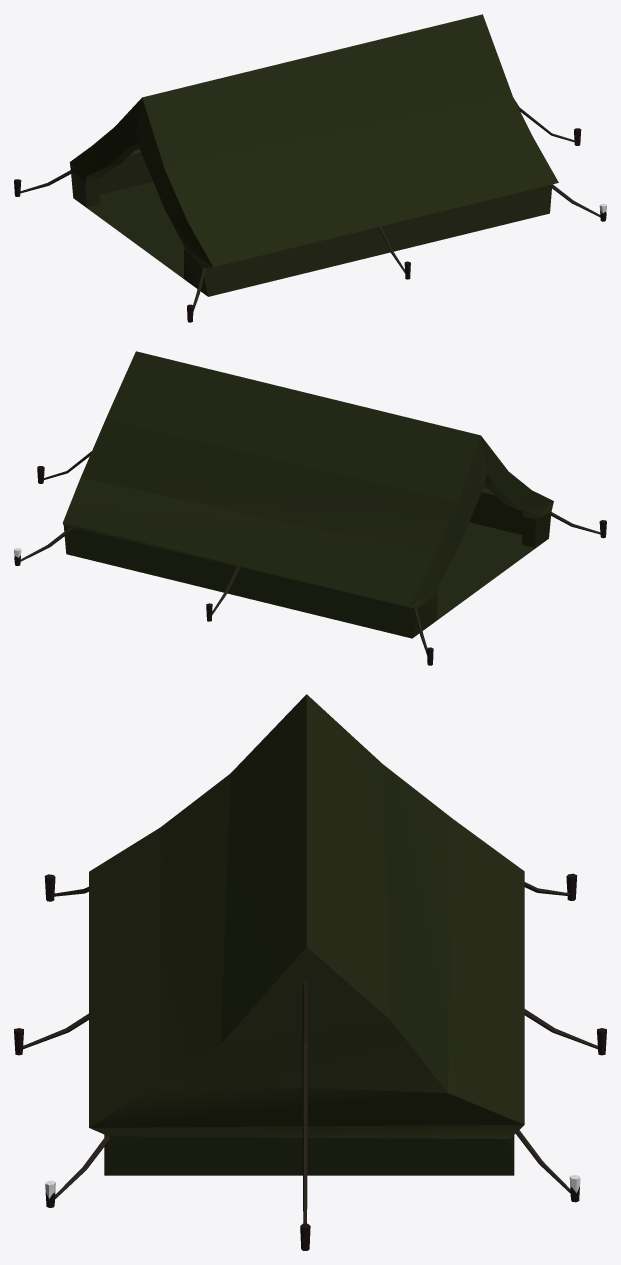
The model's file is Tent.FBX.
3 renders of one model, top to bottom at view 1: azimuth 30°, elevation 25°; view 2: azimuth 150°, elevation 25°; view 3: azimuth 270°, elevation 25°, orthographic. The views are drawn at different scales.
Visible parts, largest first — view 1: Tent; view 2: Tent; view 3: Tent.
Boxes of the visible parts, x1,y1,x2,y2 form: Tent: (14,14,606,322); Tent: (14,351,606,665); Tent: (14,694,606,1250).
Bounding box in the file's own units: 0.3505 × 0.1074 × 0.2478.
